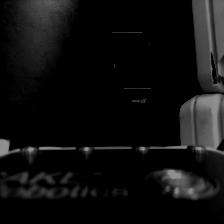Door Handle: (110, 35, 145, 71)
Lock: (126, 86, 149, 110)
